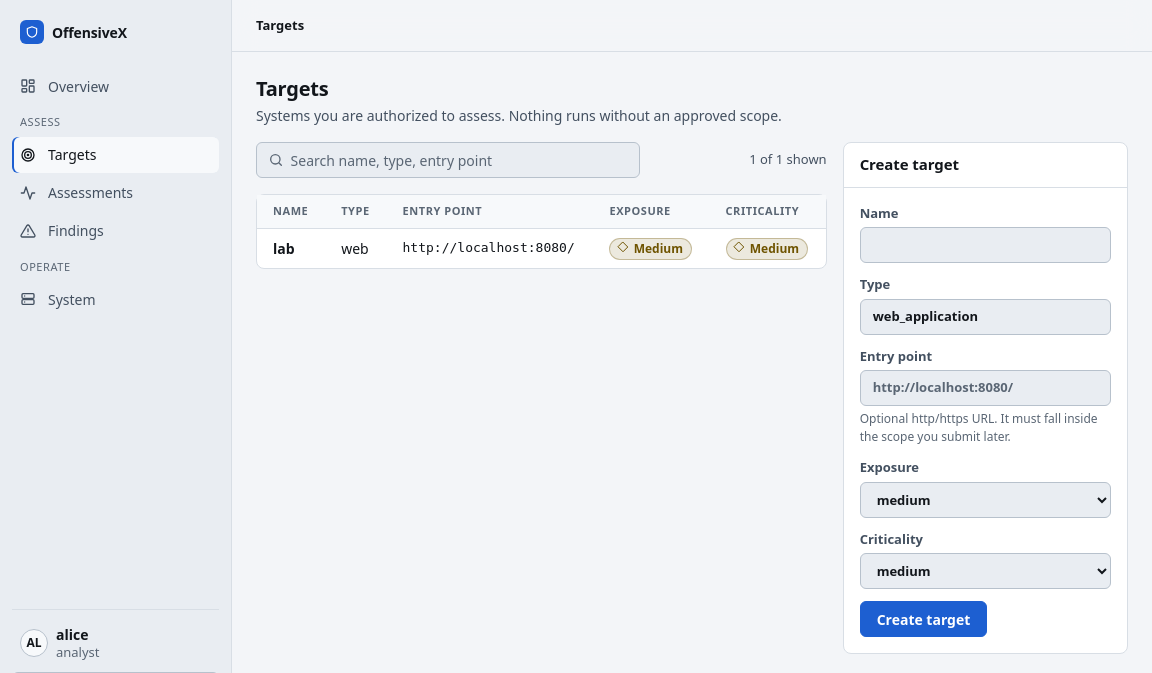
role-based controls (display only; the server stays authoritative) › shows the form to an analyst but still reports a server-side refusal
Step 1. Type "new-target" into the field labelled "Name" → [985, 245], box top-left (860, 227), bottom-right (1111, 263)
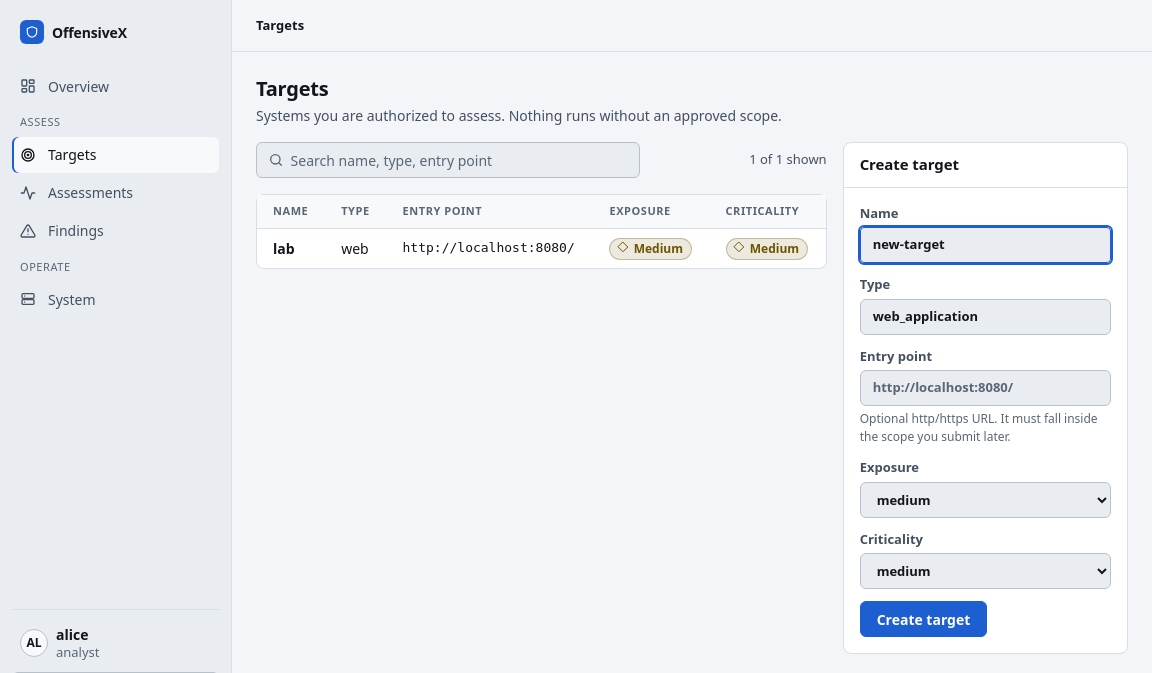
Step 2. Click the button "Create target" → [924, 619], box top-left (860, 601), bottom-right (987, 637)
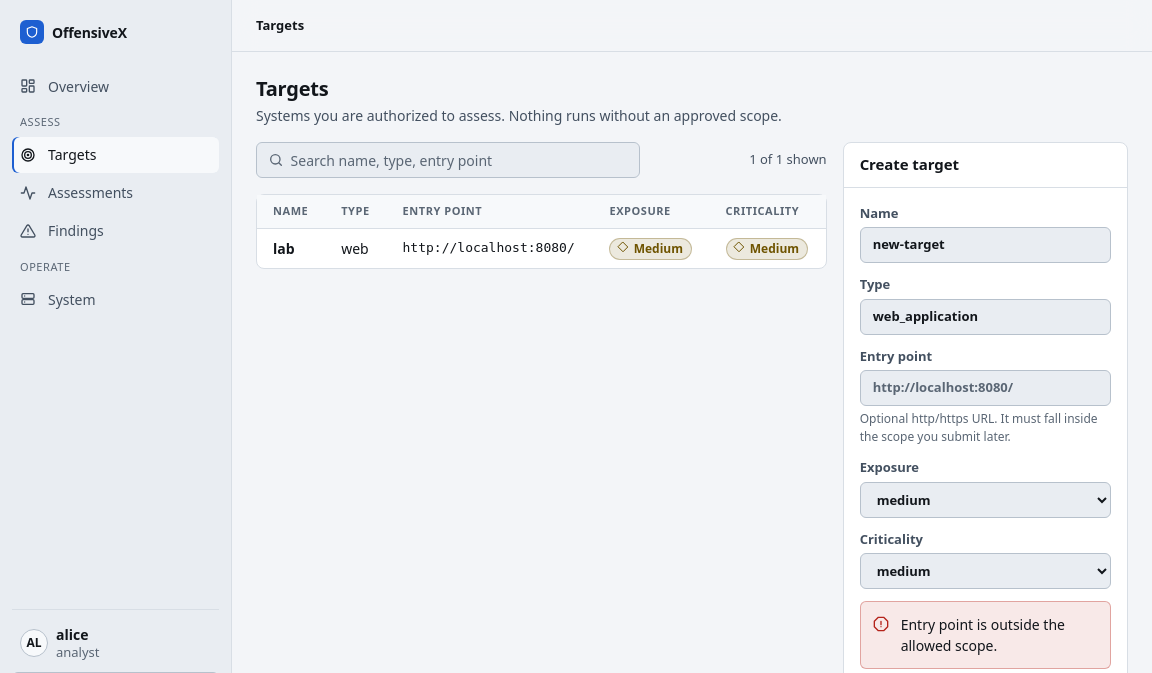
expect the text "Entry point is outside the allowed scope." is shown: met, box top-left (901, 615), bottom-right (1065, 655)
